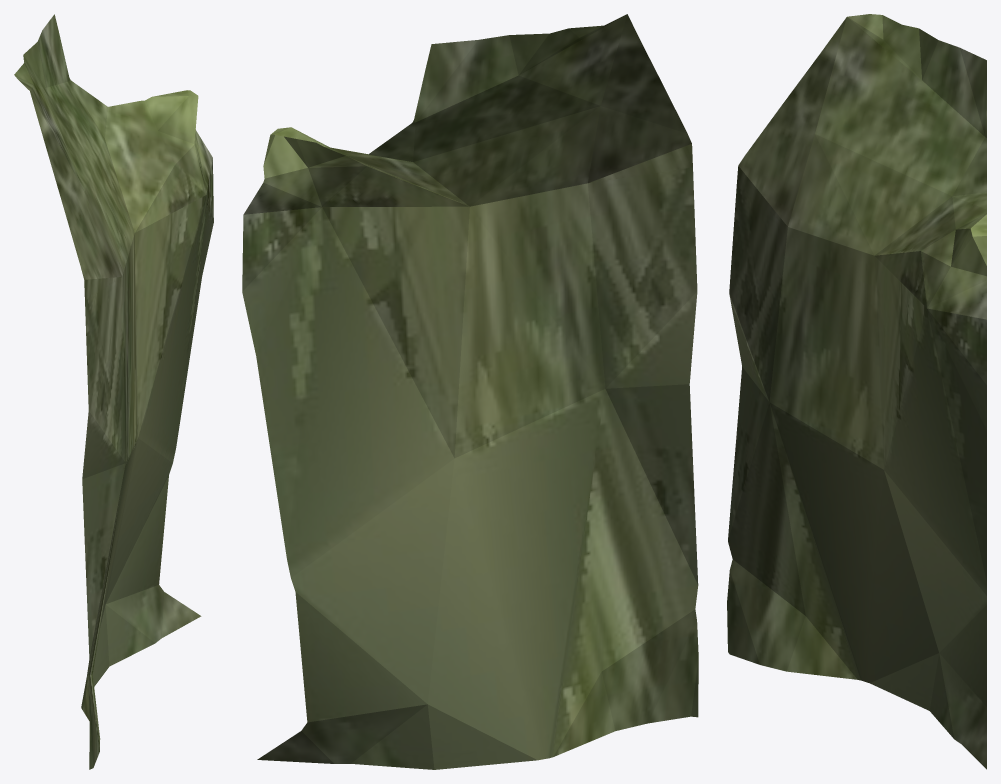
3 views of the same model, side by side, from view 1: azimuth 30°, elevation 25°; view 2: azimuth 150°, elevation 25°; view 3: azimuth 270°, elevation 25° (orthographic). The views are drawn at different scales.
Bounding box in the file's own units: 1.23 × 2.95 × 1.09.
1 material, 1 textured.
